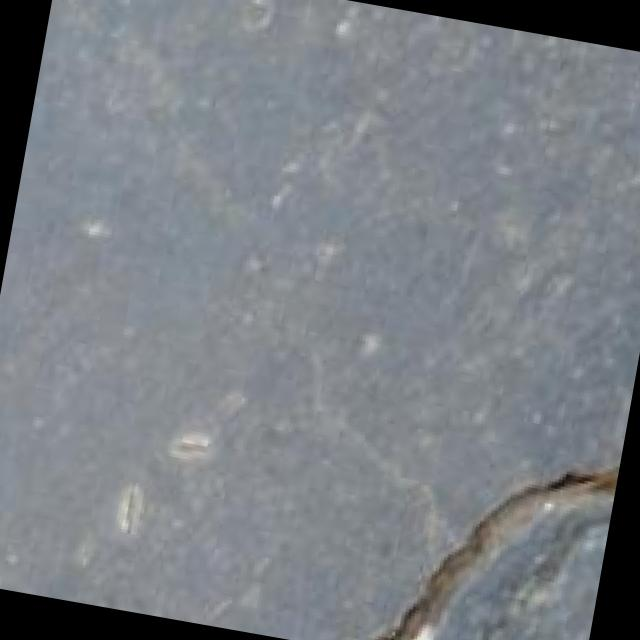crack: (353, 423, 616, 640)
